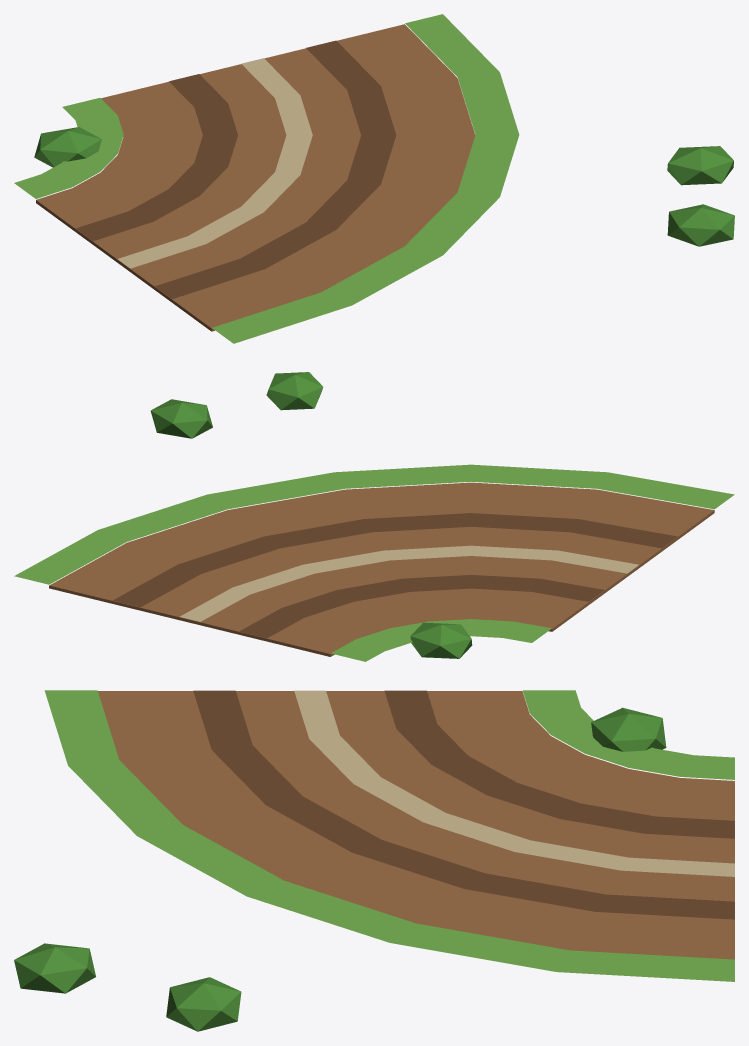
File: track_dirt_turn.glb
3 renders of one model, top to bottom at view 1: azimuth 30°, elevation 25°; view 2: azimuth 150°, elevation 25°; view 3: azimuth 270°, elevation 25°, orthographic. The views are drawn at different scales.
Visible parts, largest first — view 1: track_dirt_turn; view 2: track_dirt_turn; view 3: track_dirt_turn.
Part boxes in pixels (box(x1,y1,x2,y2)): track_dirt_turn: box(14, 14, 734, 343); track_dirt_turn: box(14, 372, 734, 661); track_dirt_turn: box(14, 690, 734, 1031).
Size of the model in its own units: 7.4 by 0.44 by 6.79.
